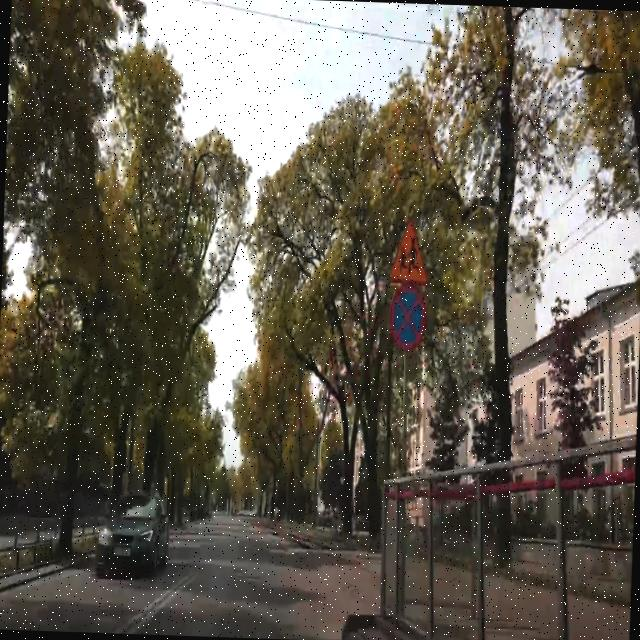Dzieci: (388, 218, 430, 286)
Zakaz zatrzymywania sie: (387, 282, 427, 350)
